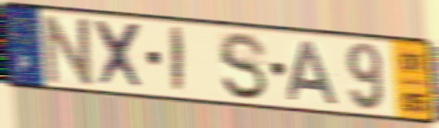9: (345, 41, 389, 113)
A: (286, 40, 342, 107)
I: (170, 25, 186, 96)
N: (42, 12, 98, 90)
S: (216, 29, 270, 103)
X: (92, 17, 148, 93)
